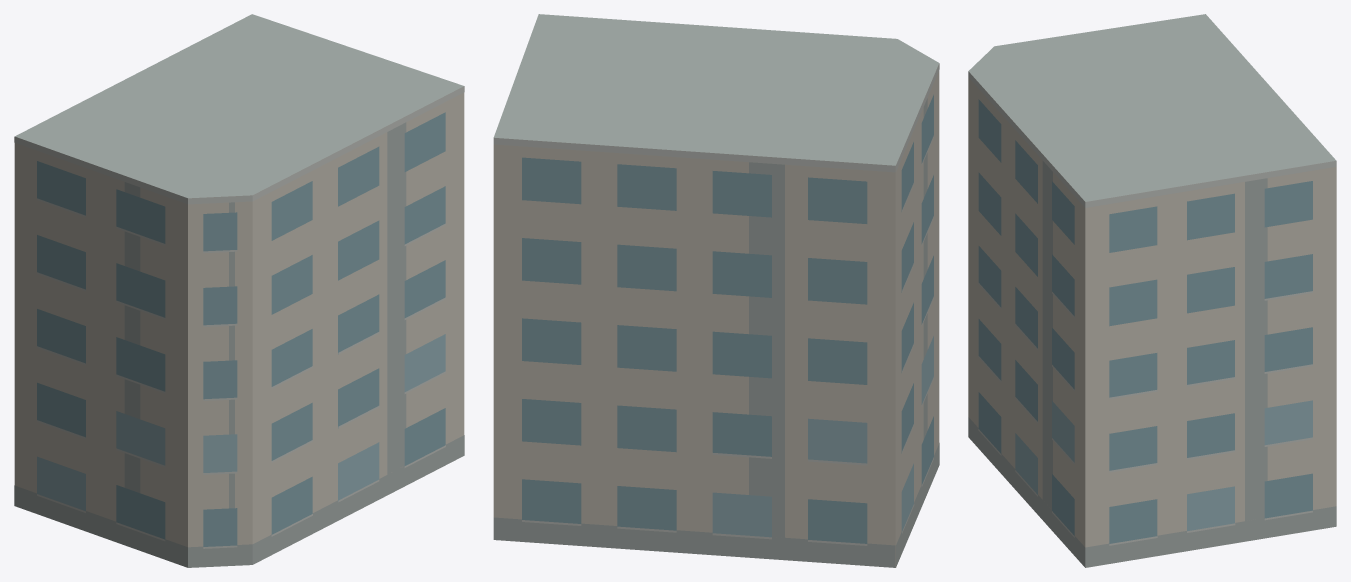
The model's file is survey-upis-33040283.glb.
3 views of the same model, side by side, from view 1: azimuth 30°, elevation 25°; view 2: azimuth 150°, elevation 25°; view 3: azimuth 270°, elevation 25° (orthographic). The views are drawn at different scales.
Visible parts, largest first — view 1: survey-upis-33040283.tmp; view 2: survey-upis-33040283.tmp; view 3: survey-upis-33040283.tmp.
Boxes of the visible parts, box(x1,y1,x2,y2) form: survey-upis-33040283.tmp: box(14, 14, 464, 567); survey-upis-33040283.tmp: box(493, 14, 939, 567); survey-upis-33040283.tmp: box(968, 14, 1336, 567).
Bounding box in the file's own units: 16.15 × 14.65 × 13.37.
